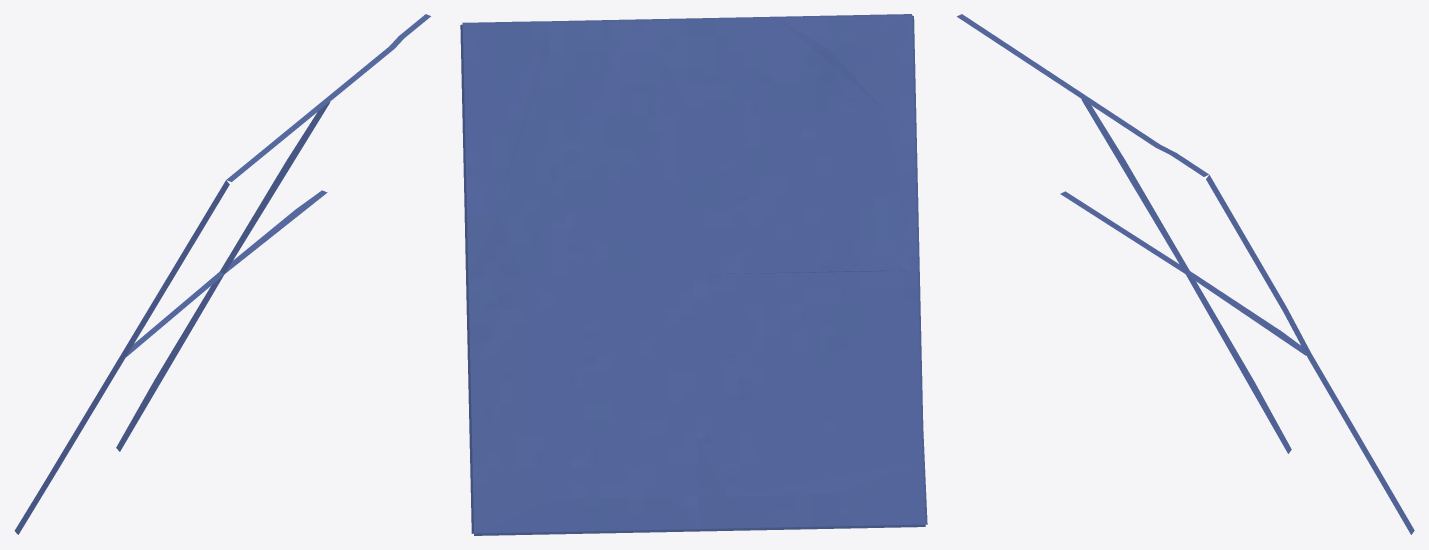
3 views of the same model, side by side, from view 1: azimuth 30°, elevation 25°; view 2: azimuth 150°, elevation 25°; view 3: azimuth 270°, elevation 25° (orthographic). The views are drawn at different scales.
Bounding box in the file's own units: 79133 × 69684 × 69598.
1 material, 1 textured.
